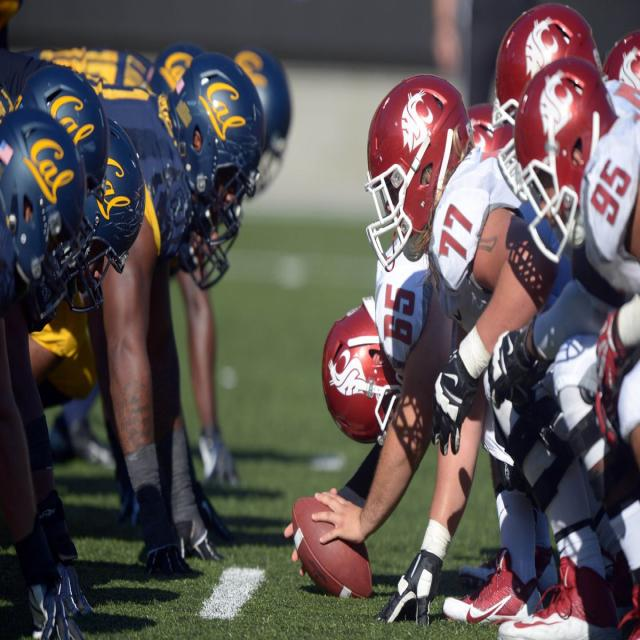illegal_helmet: (358, 63, 478, 277), (509, 52, 620, 267), (169, 46, 267, 250), (0, 103, 85, 316), (318, 292, 423, 443)
